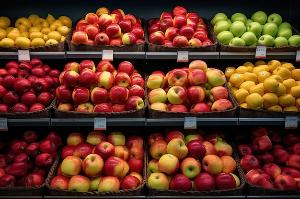apple: (146, 124, 238, 192), (53, 124, 146, 190), (59, 56, 147, 112), (148, 56, 228, 112), (208, 5, 300, 53), (228, 55, 300, 113), (238, 126, 300, 192), (70, 3, 146, 49), (1, 124, 53, 190), (0, 56, 58, 114), (0, 11, 72, 52), (147, 3, 211, 49)
